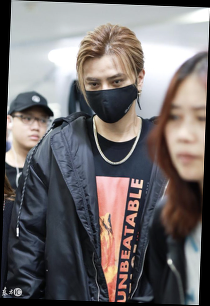with_mask: (83, 70, 138, 120)
without_mask: (163, 101, 205, 181), (12, 110, 49, 149)
